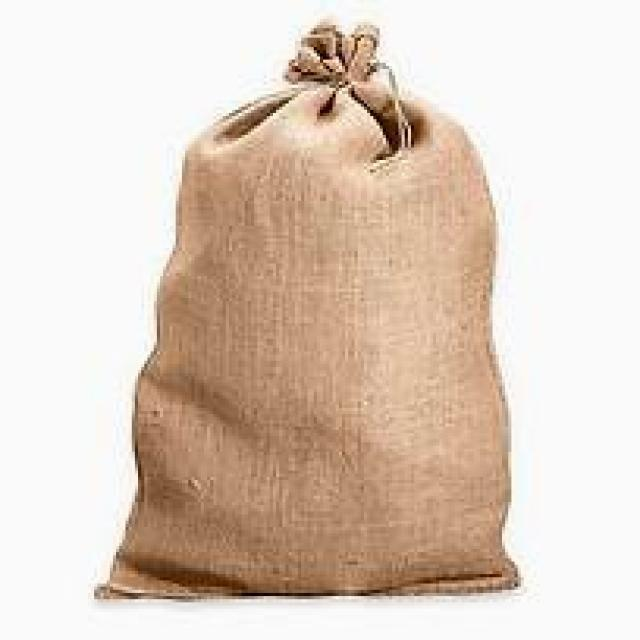gunny_bag: (94, 14, 521, 605)
